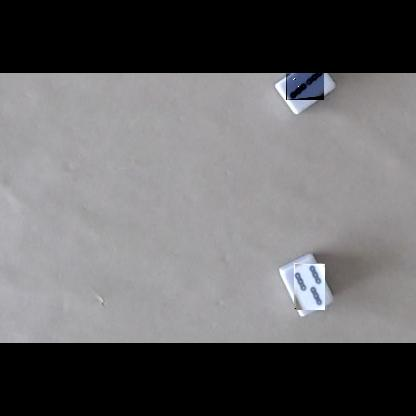2s: (286, 73, 324, 100)
3s: (294, 263, 325, 310)
